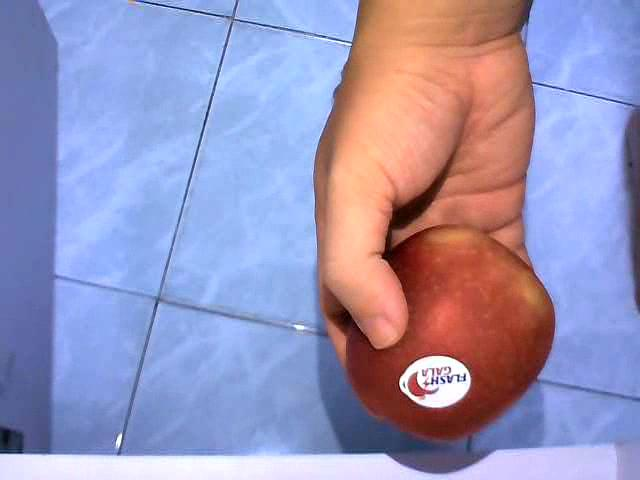apple: (342, 221, 554, 443)
